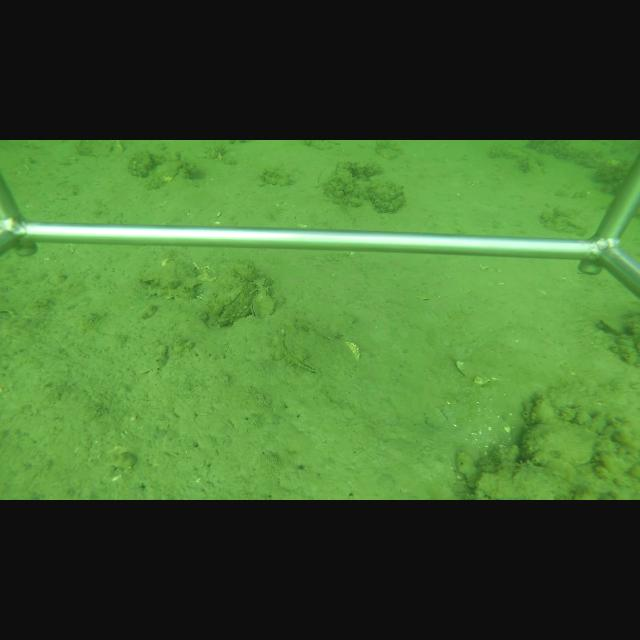Oyster-Closed: (277, 320, 361, 375), (523, 419, 608, 466), (208, 280, 254, 327), (249, 287, 278, 320)
